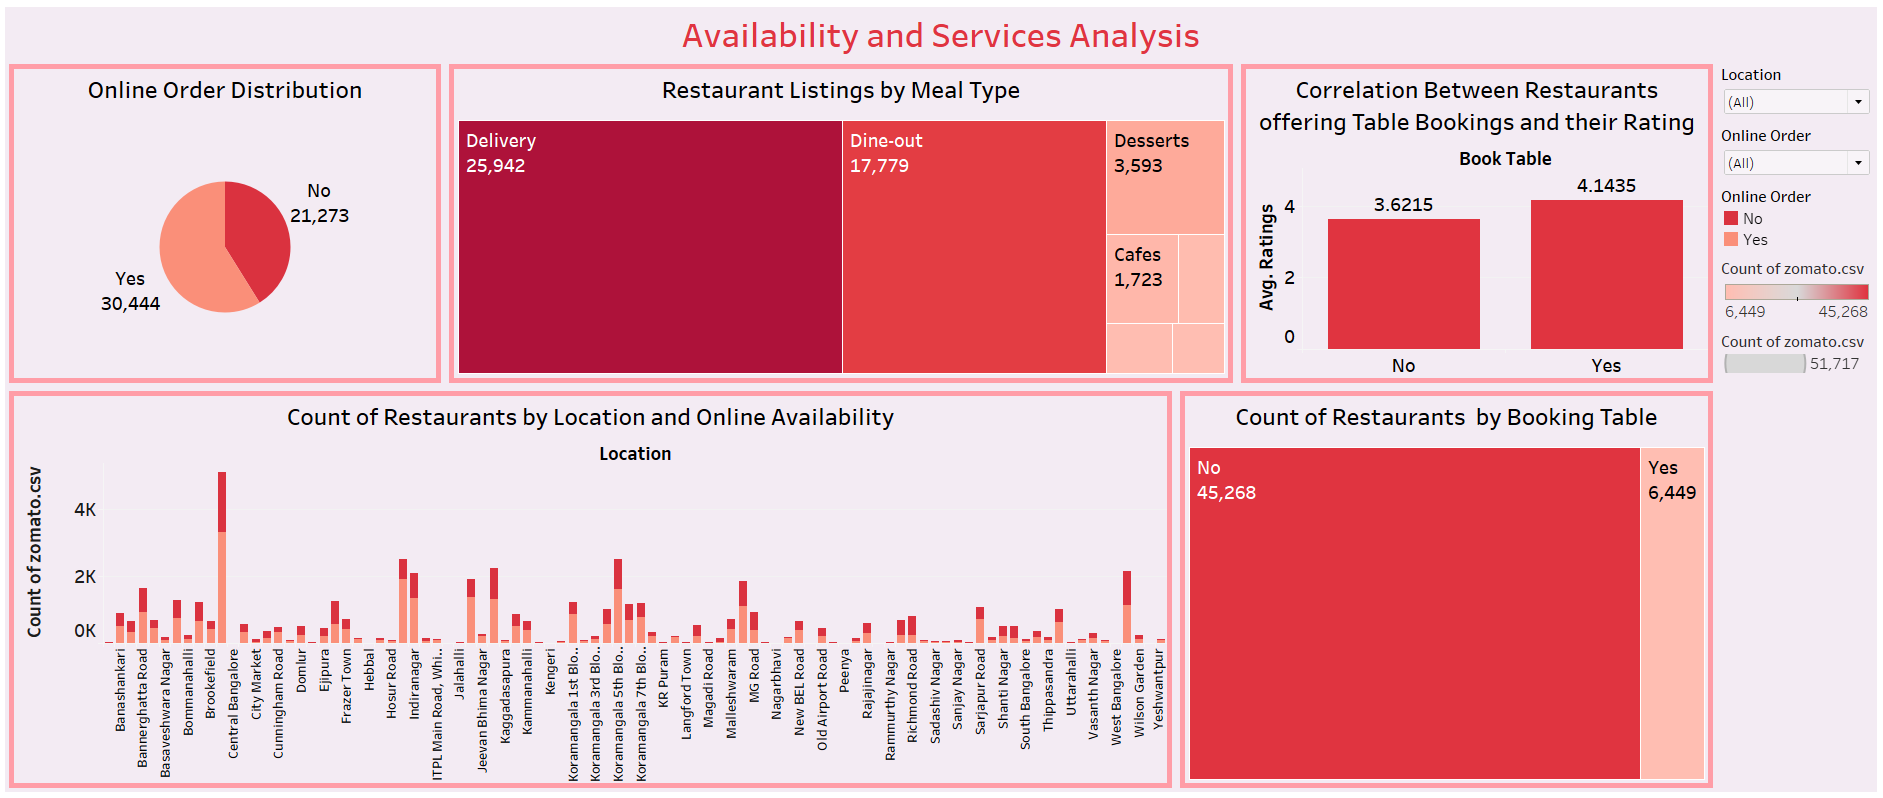

What the dashboard file says about the page in this screenshot:
{"tool":"tableau","page":{"name":"Availability and Services Analysis","canvas":[1000,1000],"units":"permille","ordinal":0},"visuals":[{"type":"title","box":[4.2,10,991.5,66.2]},{"type":"worksheet","title":"Sheet 14","mark":"Pie","box":[4.2,76.2,232.8,408]},{"type":"worksheet","title":"Sheet 13","mark":"Automatic","box":[237.1,76.2,419.5,408]},{"type":"worksheet","title":"Sheet 3","mark":"Automatic","rows":["rate - Split 1"],"cols":["book_table"],"box":[656.6,76.2,254.4,408]},{"type":"filter","title":"Sheet 1","param":"[federated.1rjx80k109967o16bbaiv08kjs3t].[none:location:nk]","box":[911,76.2,84.8,76.2]},{"type":"filter","title":"Sheet 1","param":"[federated.1rjx80k109967o16bbaiv08kjs3t].[none:online_order:nk]","box":[911,152.3,84.8,76.2]},{"type":"legend","title":"Sheet 1","param":"[federated.1rjx80k109967o16bbaiv08kjs3t].[none:online_order:nk]","box":[911,228.5,84.8,89.9]},{"type":"legend","title":"Sheet 2","param":"[federated.1rjx80k109967o16bbaiv08kjs3t].[__tableau_internal_object_id__].[cnt:z","box":[911,318.4,84.8,91.1]},{"type":"legend","title":"Sheet 14","param":"[federated.1rjx80k109967o16bbaiv08kjs3t].[__tableau_internal_object_id__].[cnt:z","box":[911,409.5,84.8,63.7]},{"type":"worksheet","title":"Sheet 1","mark":"Automatic","rows":["zomato.csv_C325C153187B48DE863F0B92DD8A741E"],"cols":["location"],"box":[4.2,484.2,620,505.8]},{"type":"worksheet","title":"Sheet 2","mark":"Automatic","box":[624.2,484.2,286.8,505.8]}]}

Visuals, with their boxes on the dashboard's canvas, which has no fixed pixel size, in thousandths of its width and height (x1, y1, x2, y2). These are canvas units, not pixel positions in the 1883x798 screenshot, which may show the page scaled, cropped or inside an application window:
title: detection(4, 10, 996, 76)
"Sheet 14" worksheet (Pie marks): detection(4, 76, 237, 484)
"Sheet 13" worksheet: detection(237, 76, 657, 484)
"Sheet 3" worksheet: detection(657, 76, 911, 484)
"Sheet 1" filter: detection(911, 76, 996, 152)
"Sheet 1" filter: detection(911, 152, 996, 228)
"Sheet 1" legend: detection(911, 228, 996, 318)
"Sheet 2" legend: detection(911, 318, 996, 410)
"Sheet 14" legend: detection(911, 410, 996, 473)
"Sheet 1" worksheet: detection(4, 484, 624, 990)
"Sheet 2" worksheet: detection(624, 484, 911, 990)
